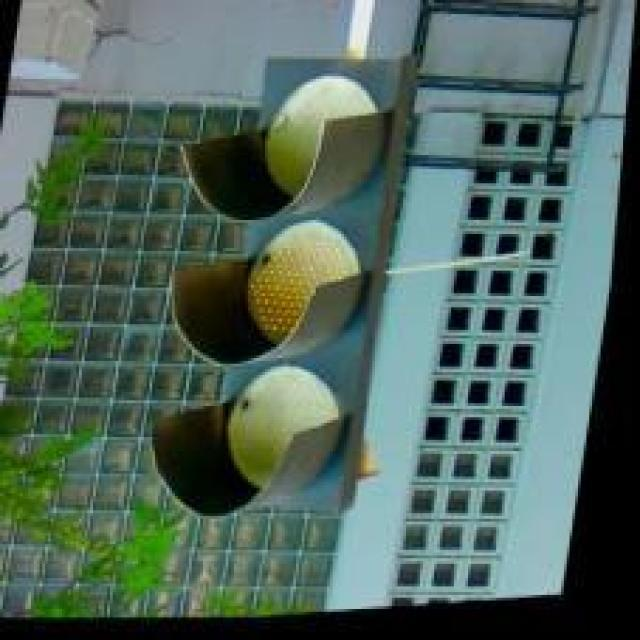yellow_light: (153, 58, 413, 514)
